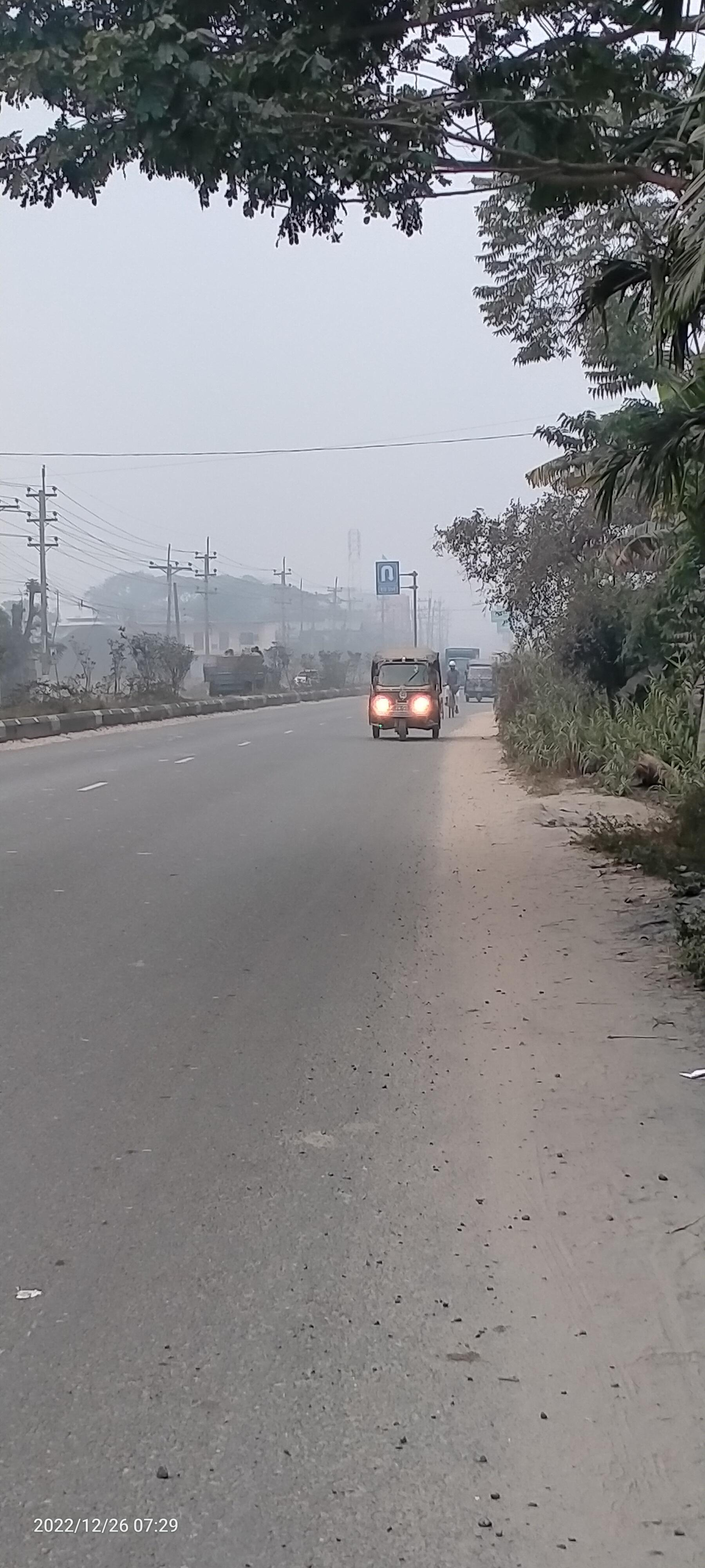Truck: (199, 640, 270, 700)
